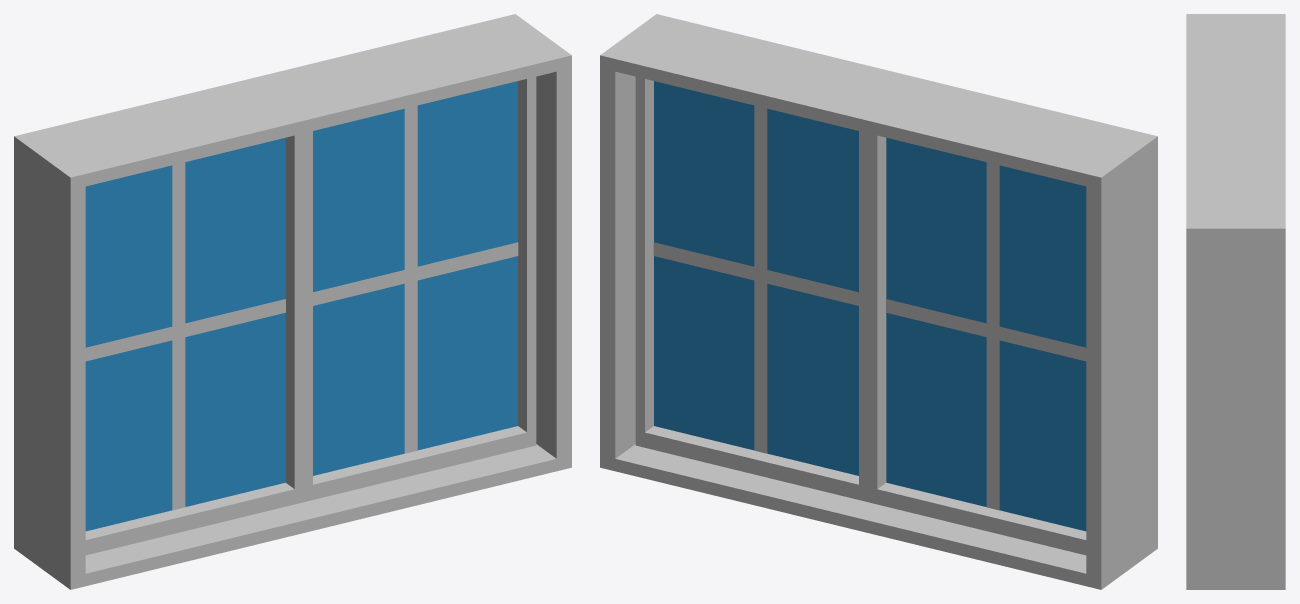
The model's file is windows2.fbx.
3 renders of one model, left to right at view 1: azimuth 30°, elevation 25°; view 2: azimuth 150°, elevation 25°; view 3: azimuth 270°, elevation 25°, orthographic. The views are drawn at different scales.
Visible parts, largest first — view 1: windows2, windows2_door2, windows2_door1; view 2: windows2, windows2_door2, windows2_door1; view 3: windows2.
Part boxes in pixels (<box>): windows2: <box>14,14,571,589</box>; windows2_door2: <box>304,76,536,501</box>; windows2_door1: <box>85,133,303,555</box>; windows2: <box>600,14,1157,589</box>; windows2_door2: <box>635,76,867,501</box>; windows2_door1: <box>868,133,1086,555</box>; windows2: <box>1186,14,1285,589</box>.
Bounding box in the file's own units: 413 × 324 × 80.56.
